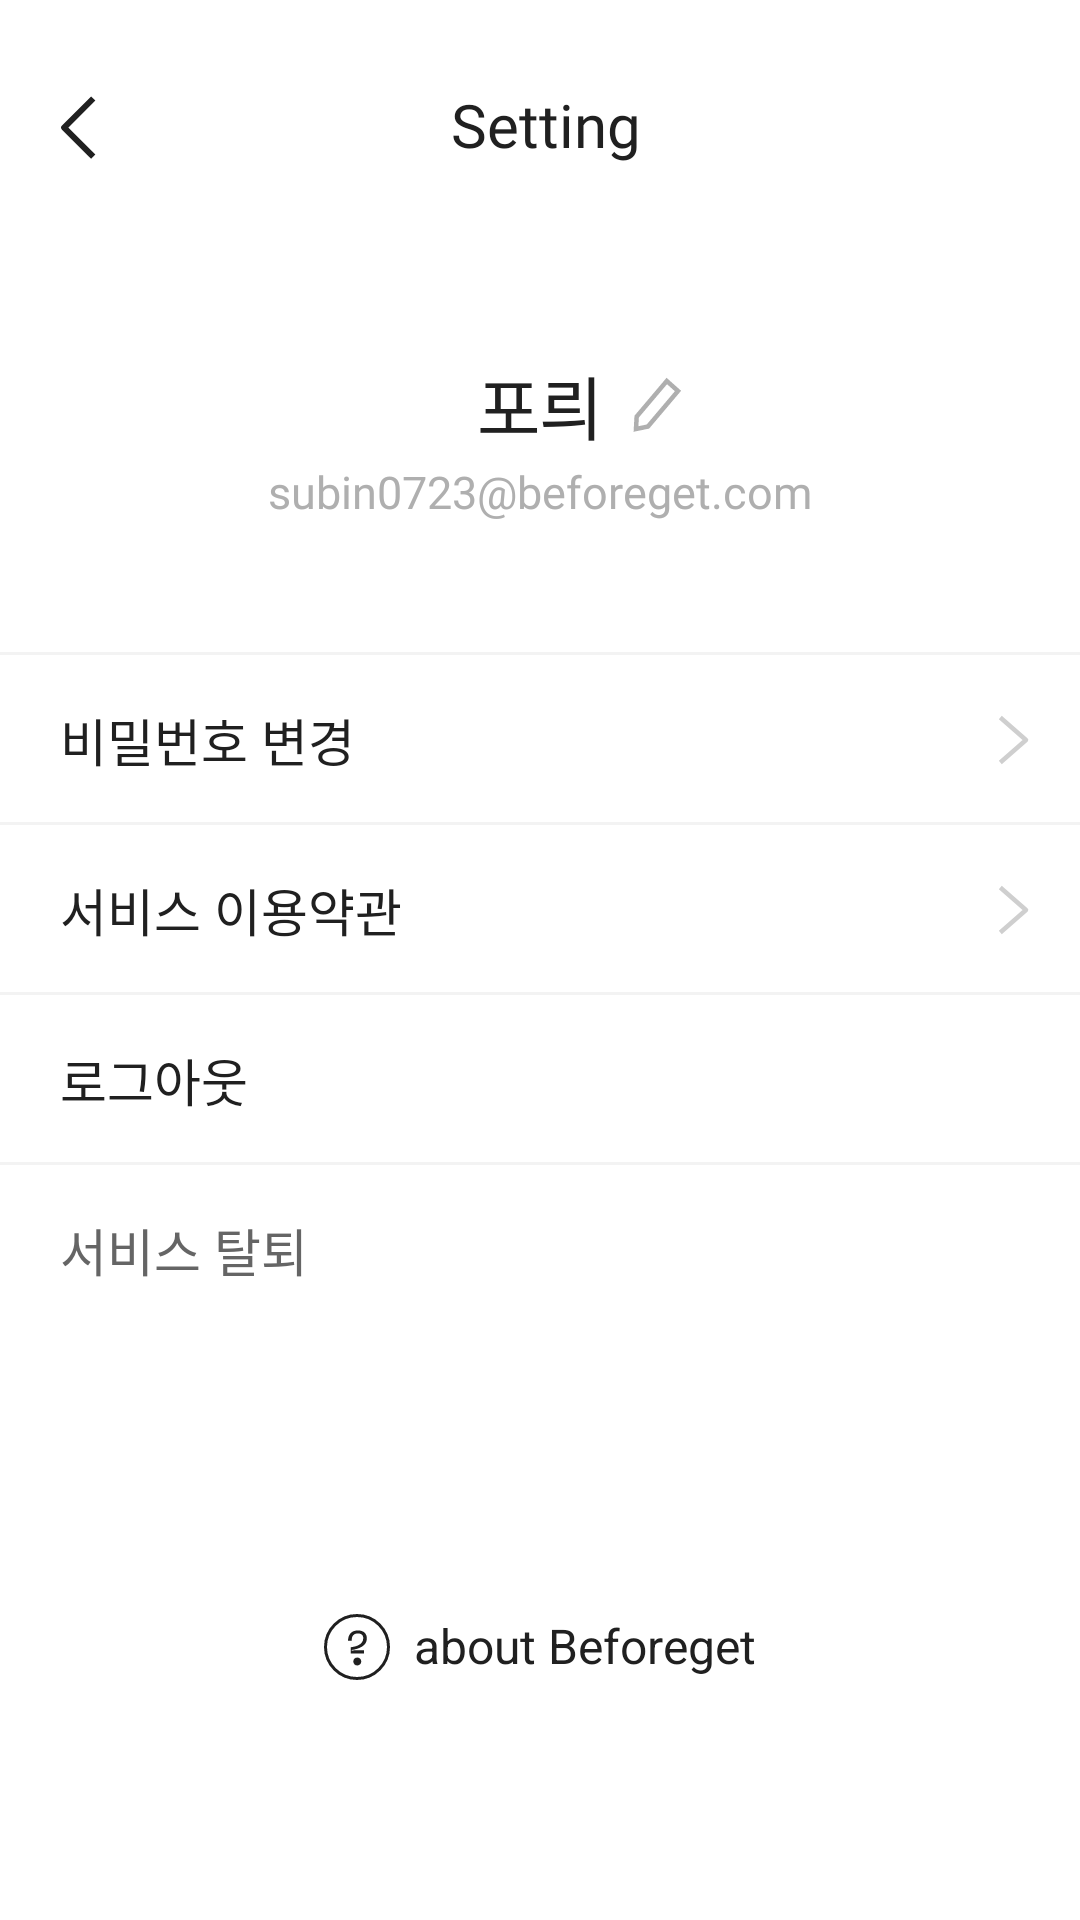

Icon bounding boxes for this 1080 × 1920 phone screenshot, format BBox(x1, y1, x2, y2):
back: BBox(61, 96, 96, 159)
nameedit: BBox(633, 378, 681, 432)
next: BBox(999, 716, 1028, 764), BBox(999, 886, 1028, 934)
